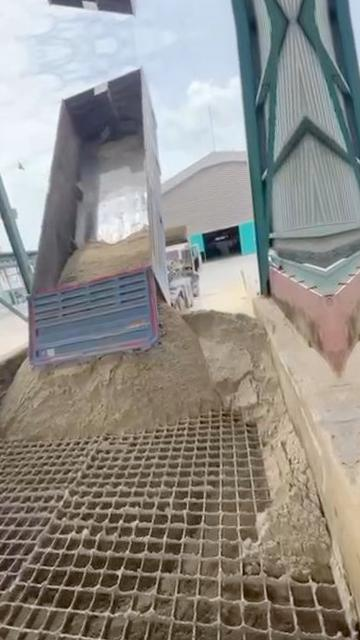sand: (0, 305, 330, 571), (60, 231, 150, 284)
